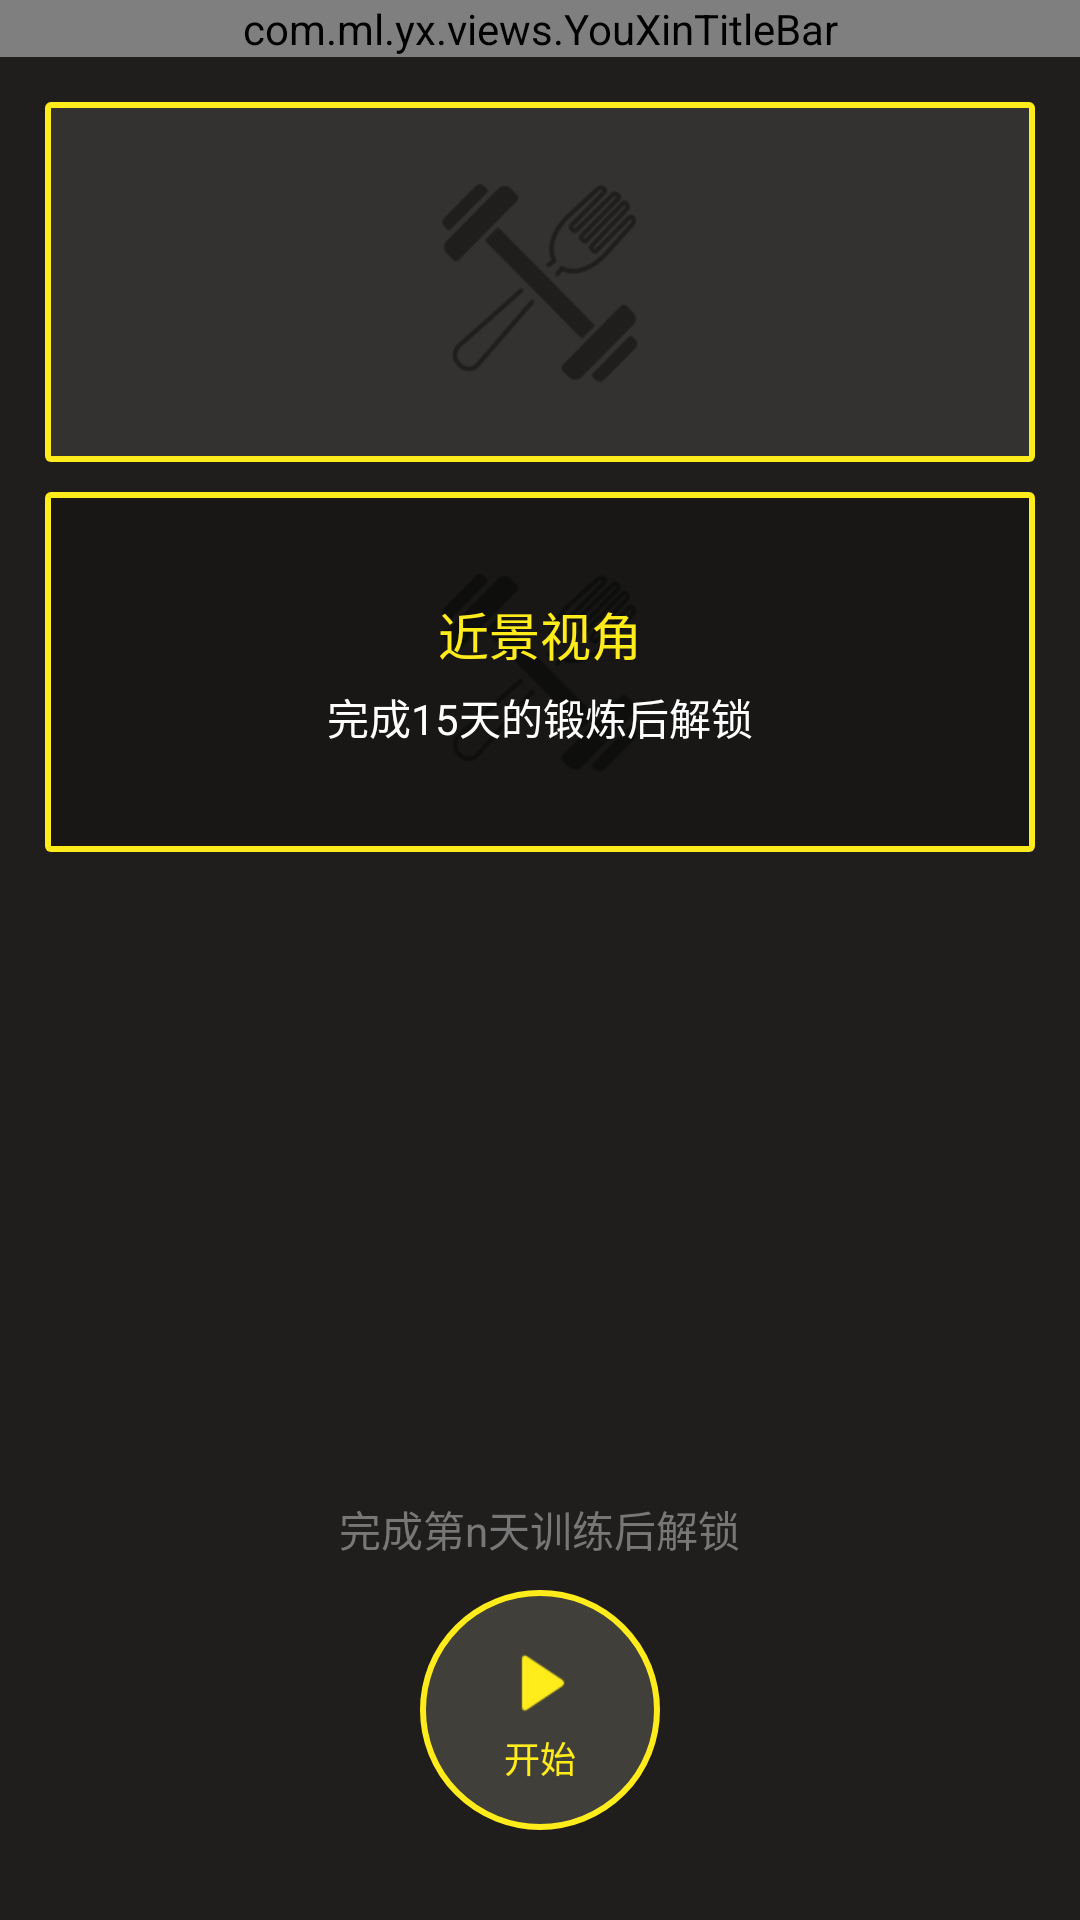

Icons on this 1080 × 1920 Android screen, each with its box as (x1, y1, x2, y2):
play: (521, 1655, 565, 1711)
